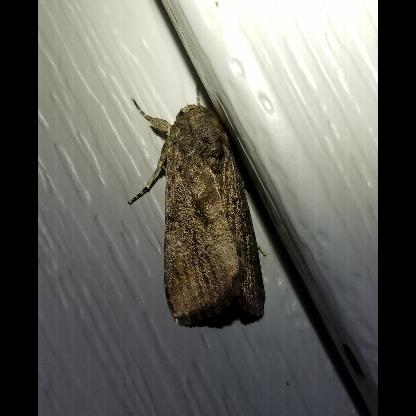Fall Armyworm Moth: (126, 80, 272, 332)
